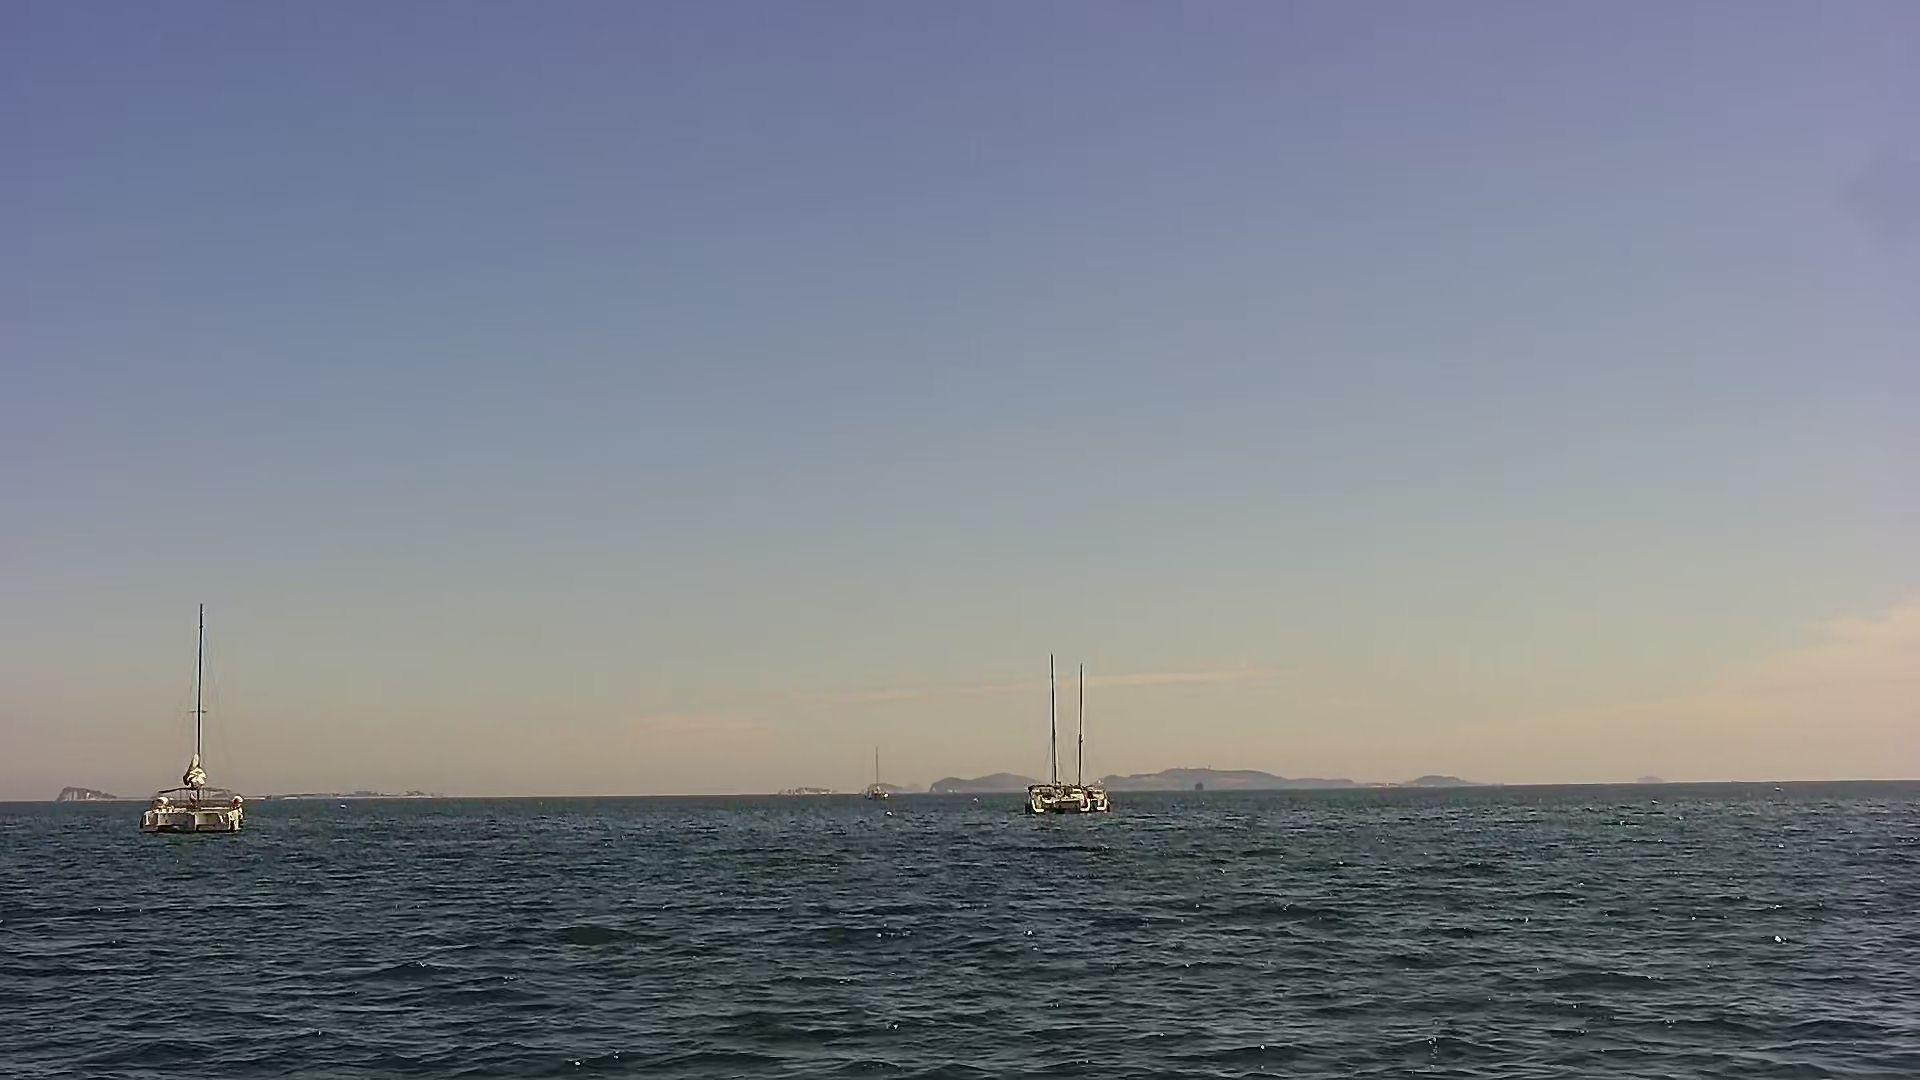boat: (145, 597, 255, 847), (1025, 655, 1116, 815), (855, 744, 897, 802)
rock: (1102, 764, 1367, 781), (265, 781, 448, 800), (47, 775, 135, 803), (930, 767, 1060, 785), (1399, 769, 1491, 785)
